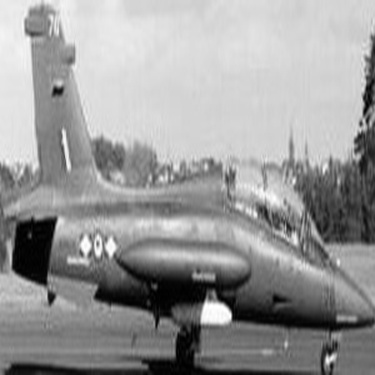airplane: (5, 4, 370, 371)
